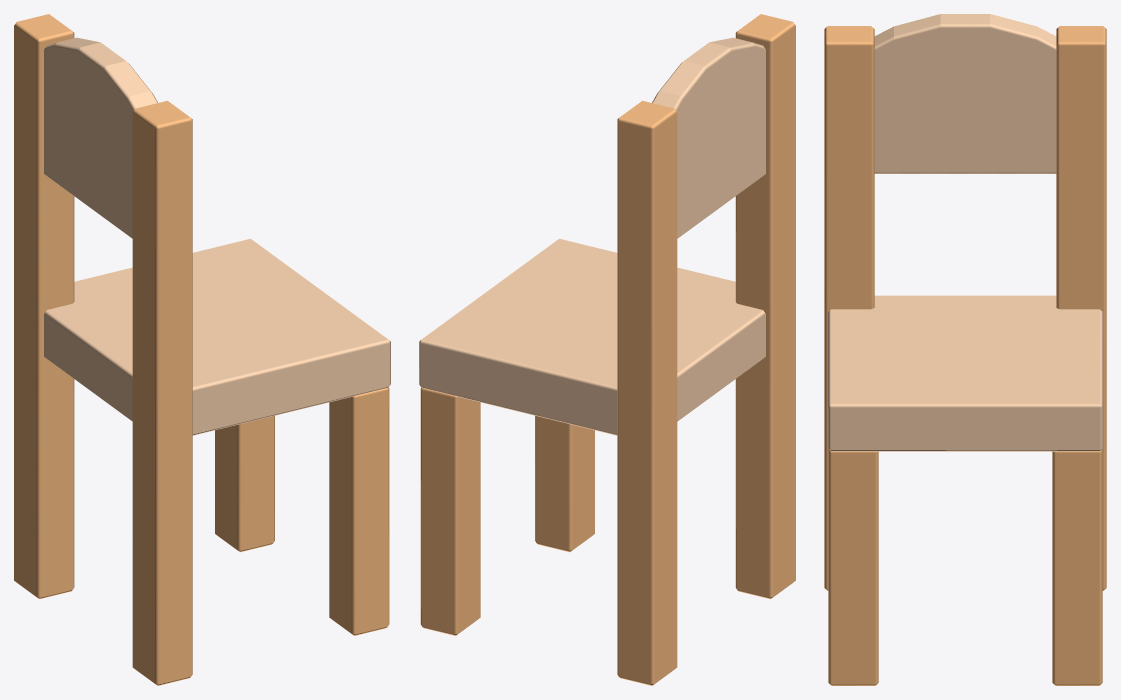
The model's file is silla.fbx.
3 renders of one model, left to right at view 1: azimuth 30°, elevation 25°; view 2: azimuth 150°, elevation 25°; view 3: azimuth 270°, elevation 25°, orthographic. The views are drawn at different scales.
Visible parts, largest first — view 1: Chair.001; view 2: Chair.001; view 3: Chair.001.
Boxes of the visible parts, x1,y1,x2,y2 form: Chair.001: [14, 14, 390, 685]; Chair.001: [419, 14, 795, 685]; Chair.001: [824, 14, 1106, 685].
Size of the model in its own units: 80.33 by 186 by 84.33.
